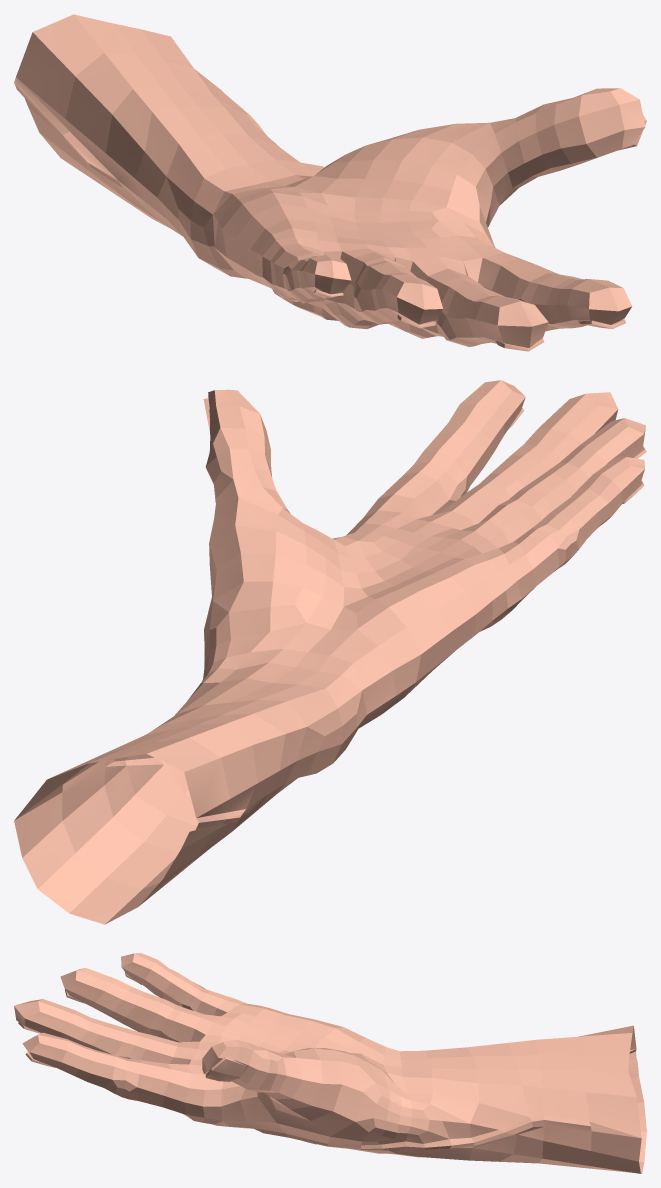
Rendered from 5_8_HandPolygonalLeftFront.glb.
The picture shows the model from 3 angles, top to bottom: view 1: azimuth 30°, elevation 25°; view 2: azimuth 150°, elevation 25°; view 3: azimuth 270°, elevation 25°; orthographic projection. The views are drawn at different scales.
Visible parts, largest first — view 1: polySurface920.006; view 2: polySurface920.006; view 3: polySurface920.006.
Boxes of the visible parts, x1,y1,x2,y2 form: polySurface920.006: (14,14,646,351); polySurface920.006: (14,380,646,924); polySurface920.006: (14,953,646,1173).
Bounding box in the file's own units: 0.0873 × 0.0587 × 0.1856.
